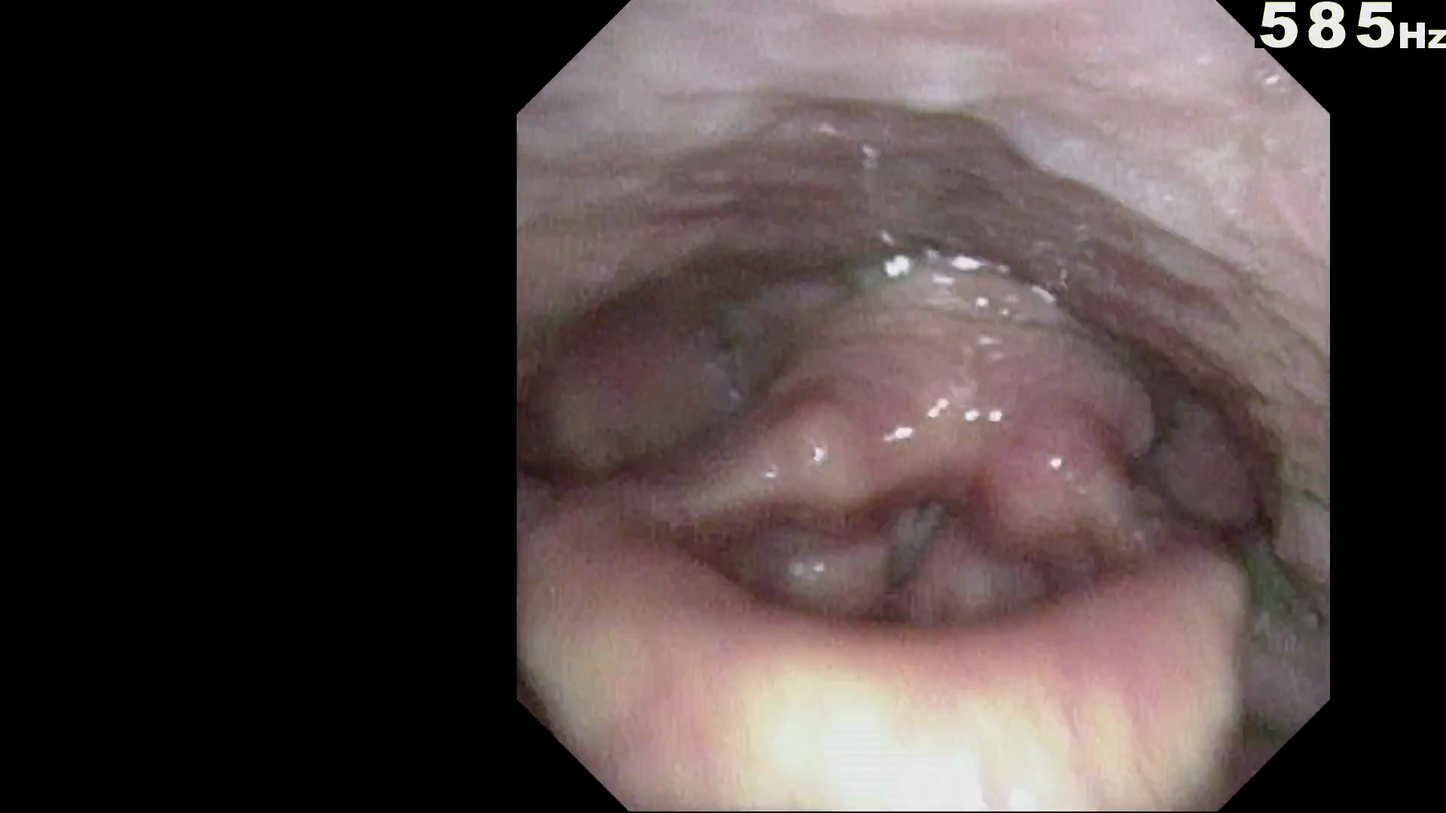epiglottis: (616, 504, 1246, 789)
trachea: (853, 476, 971, 606)
